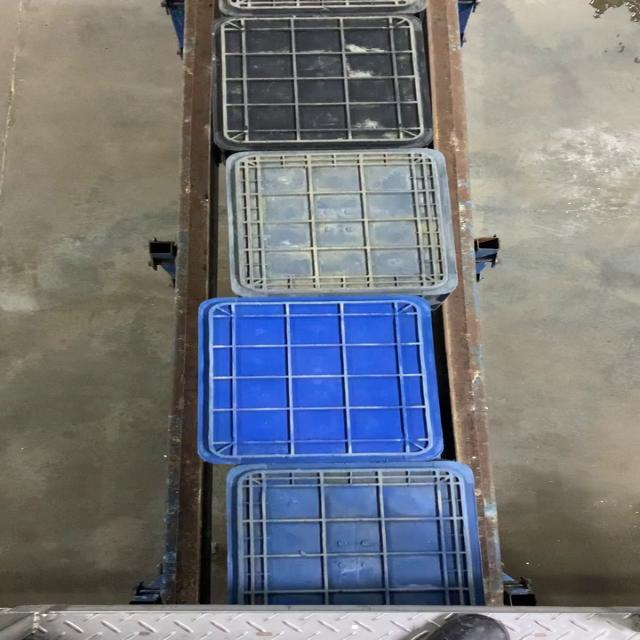Box: (196, 299, 448, 465), (228, 148, 458, 300), (212, 14, 438, 146)
